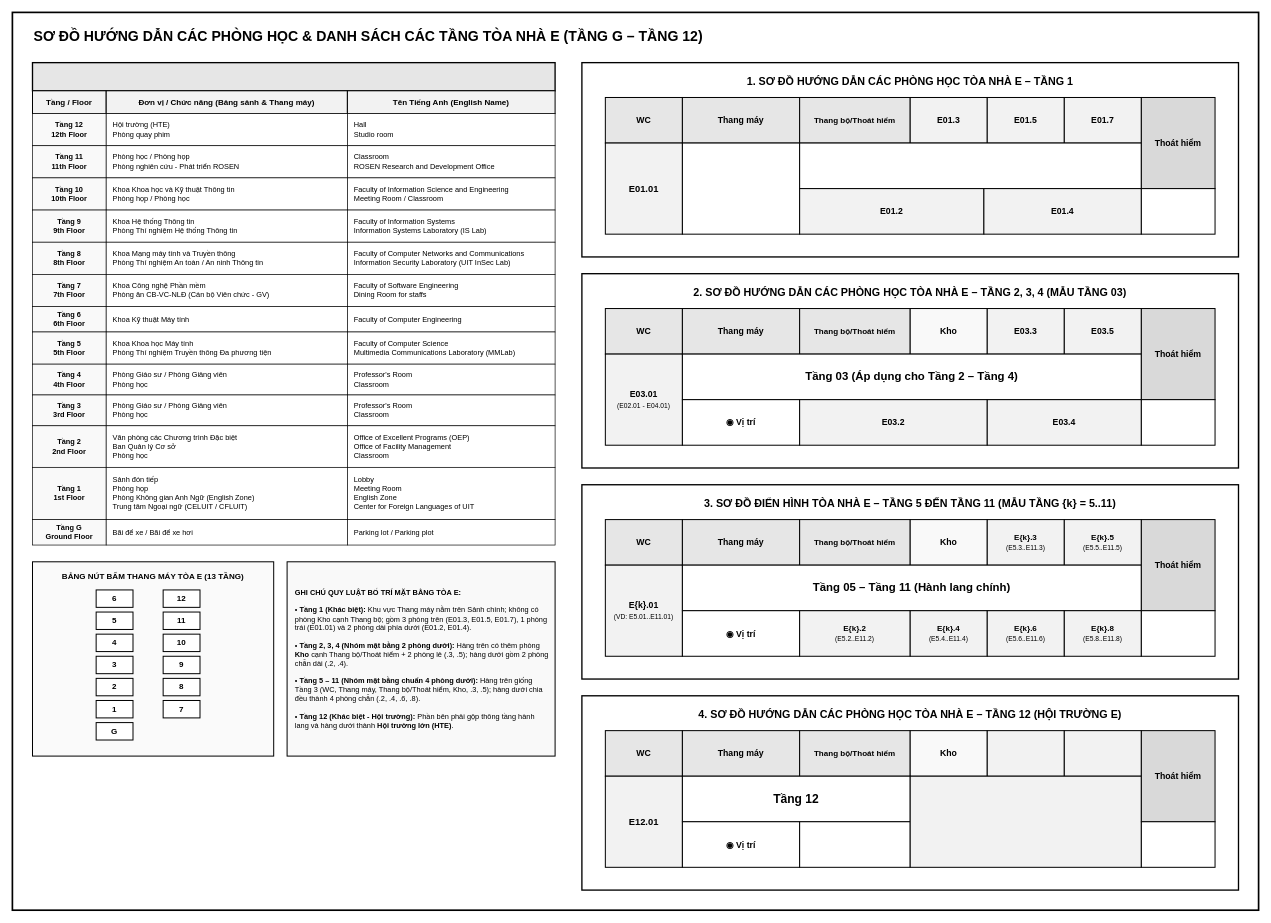
The diagram is 1271 pixels wide and 923 high, and some of its shapes have lost their labels. Here are the shapes that lost their labels. From the top down, the centre of each, then its label:
the point at 293,76: DANH SÁCH CÁC TẦNG CỦA TÒA NHÀ E (LIST OF FLOORS)
the point at 970,165: Tầng 01
the point at 741,188: Sảnh chính ◉ Bạn đang ở đây
the point at 1025,821: HTE (Hội trường Tầng 12)
